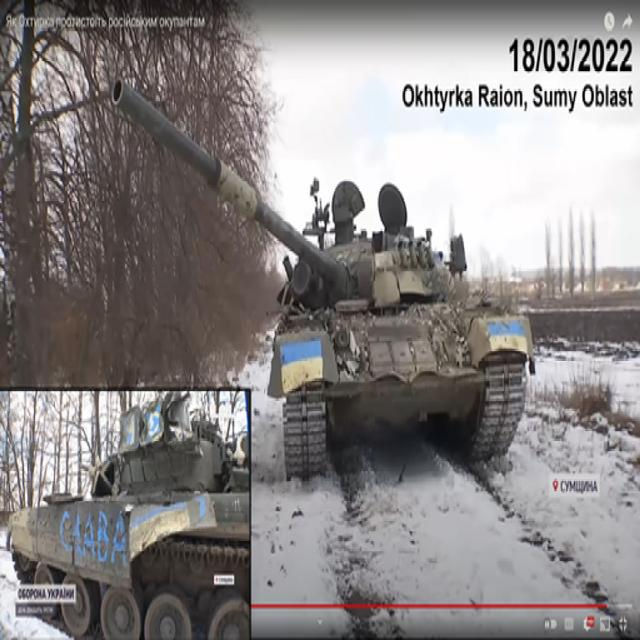TANK: (110, 71, 536, 476)
